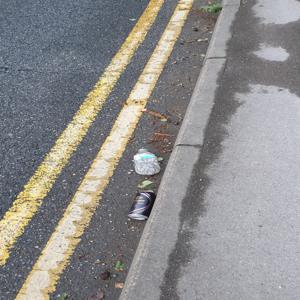metal: (128, 185, 159, 220)
plastic bottle: (121, 137, 164, 179)
